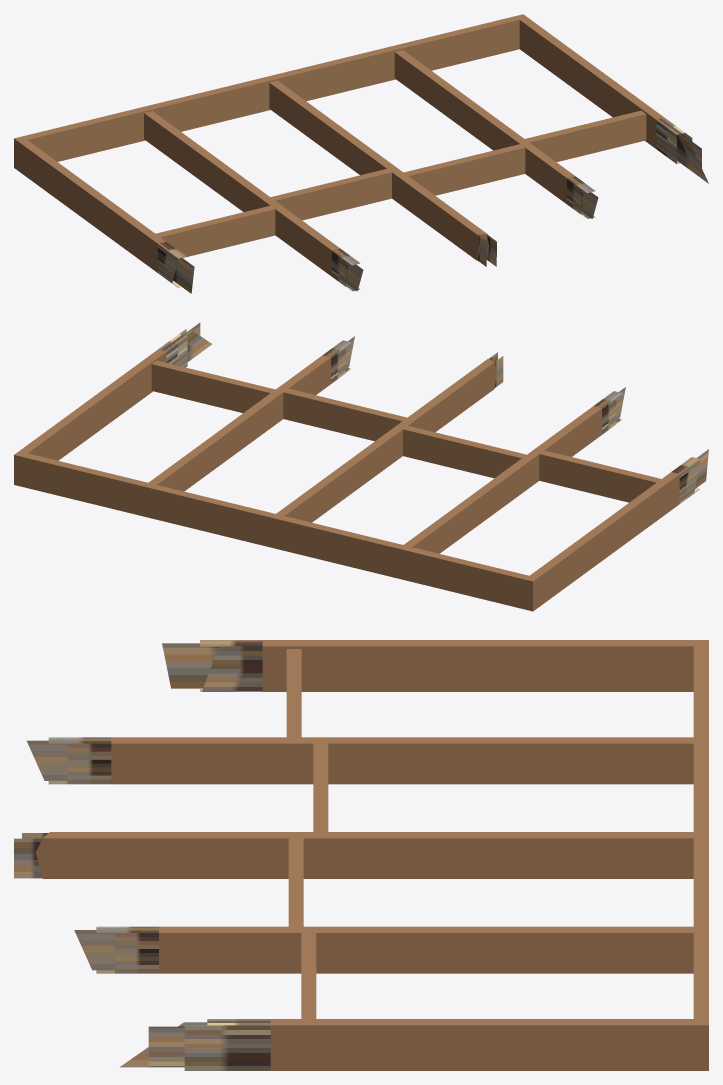
Rendered from DBK_WoodFrame_Floor_Tile_B.fbx.
3 views of the same model, one above another, from view 1: azimuth 30°, elevation 25°; view 2: azimuth 150°, elevation 25°; view 3: azimuth 270°, elevation 25° (orthographic). The views are drawn at different scales.
Visible parts, largest first — view 1: DBK_WoodFrame_Floor_Tile_B; view 2: DBK_WoodFrame_Floor_Tile_B; view 3: DBK_WoodFrame_Floor_Tile_B.
Part boxes in pixels (box(x1,y1,x2,y2)): DBK_WoodFrame_Floor_Tile_B: box(14, 14, 708, 293); DBK_WoodFrame_Floor_Tile_B: box(14, 322, 708, 611); DBK_WoodFrame_Floor_Tile_B: box(14, 640, 708, 1070).
Bounding box in the file's own units: 300 × 16.58 × 229.
